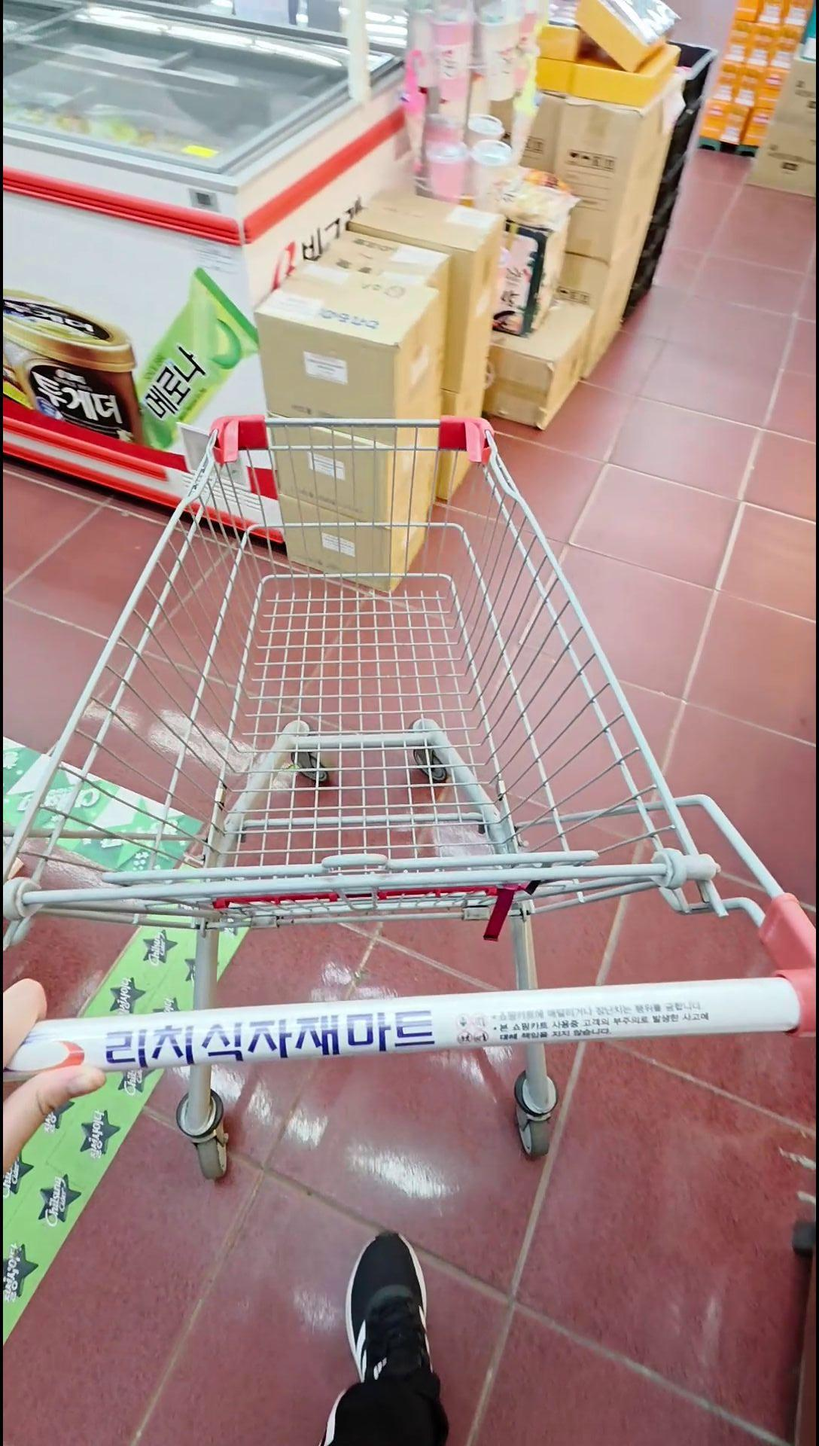empty_cart: (0, 413, 814, 1185)
